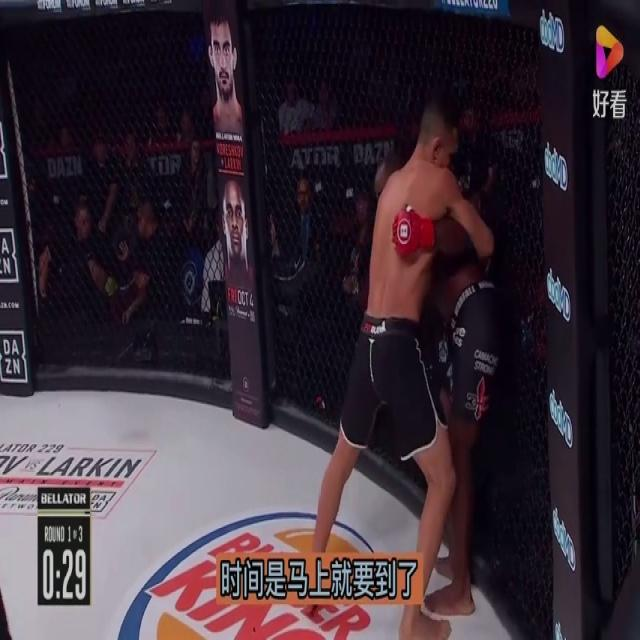fight: (312, 96, 517, 639)
